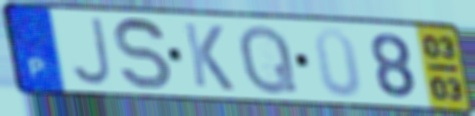0: (312, 25, 364, 100)
8: (369, 31, 419, 99)
J: (67, 15, 114, 88)
K: (181, 20, 237, 94)
Q: (236, 22, 301, 97)
S: (112, 15, 175, 93)
